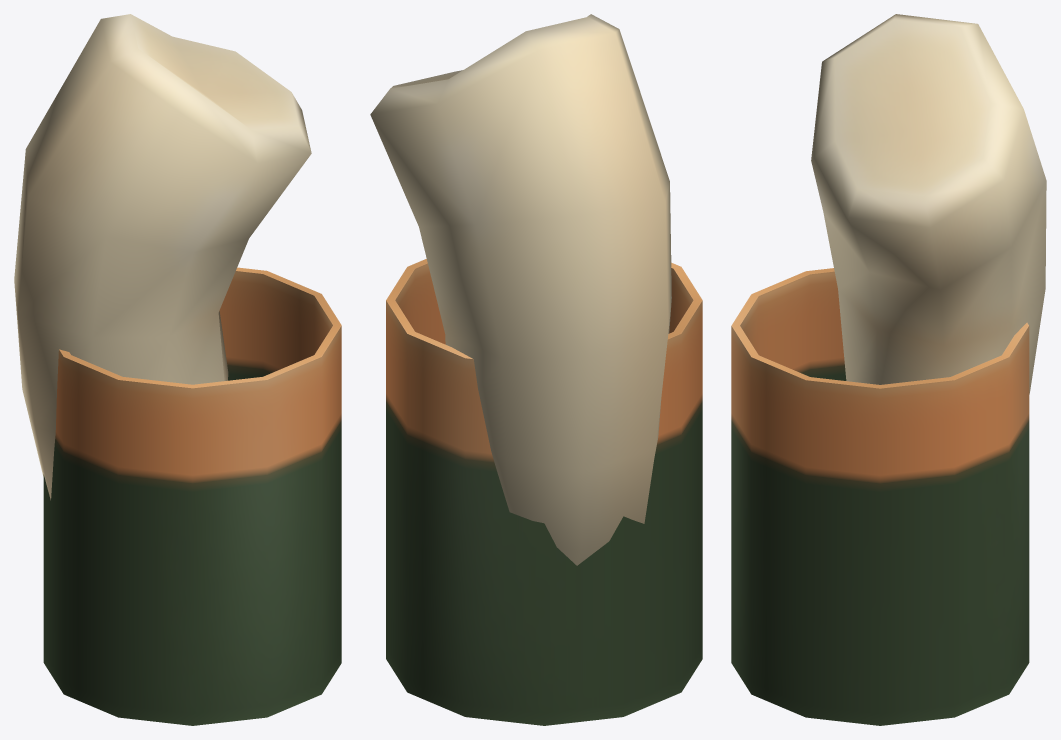
The model's file is jsf_Mayonnaise_04.fbx.
3 renders of one model, left to right at view 1: azimuth 30°, elevation 25°; view 2: azimuth 150°, elevation 25°; view 3: azimuth 270°, elevation 25°, orthographic. The views are drawn at different scales.
Parts seen in each view (by area): view 1: Vessel, Mayonnaise; view 2: Mayonnaise, Vessel; view 3: Vessel, Mayonnaise.
Part boxes in pixels (x1,y1,x2,y2): Vessel: (43,267,341,725); Mayonnaise: (14,14,311,500); Mayonnaise: (370,14,671,565); Vessel: (386,259,702,725); Vessel: (731,268,1029,725); Mayonnaise: (811,14,1046,394).
Bounding box in the file's own units: 10.87 × 23.15 × 10.58.
